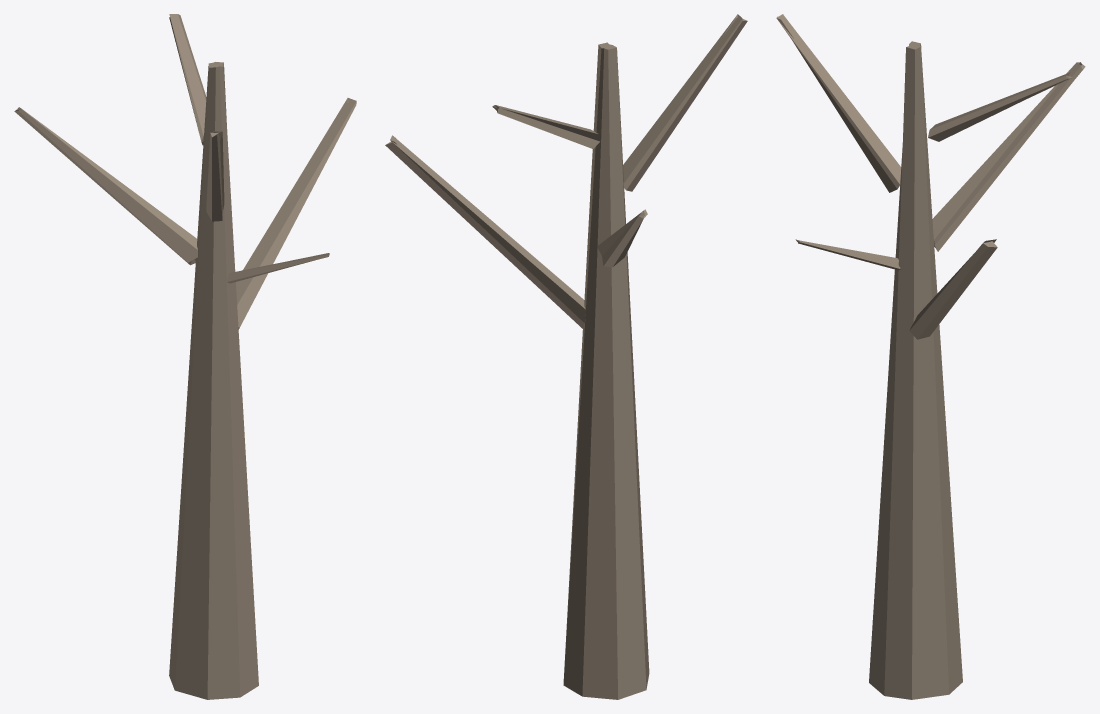
File: bare.glb
3 renders of one model, left to right at view 1: azimuth 30°, elevation 25°; view 2: azimuth 150°, elevation 25°; view 3: azimuth 270°, elevation 25°, orthographic. The views are drawn at different scales.
Visible parts, largest first — view 1: trunk; view 2: trunk; view 3: trunk.
Boxes of the visible parts, bbox=[...] form: trunk: bbox=[14, 14, 356, 699]; trunk: bbox=[385, 14, 747, 699]; trunk: bbox=[776, 14, 1085, 699].
Size of the model in its own units: 2.21 by 4.4 by 1.94.
